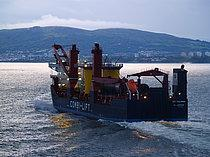Ship: (47, 40, 192, 125)
